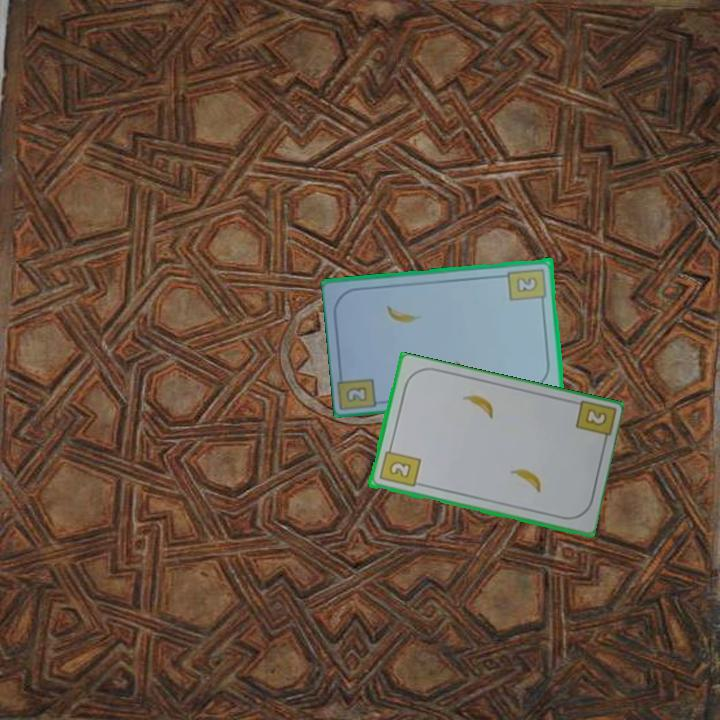2b: (375, 442, 423, 490), (505, 265, 549, 307), (342, 383, 371, 405), (584, 407, 608, 427)
